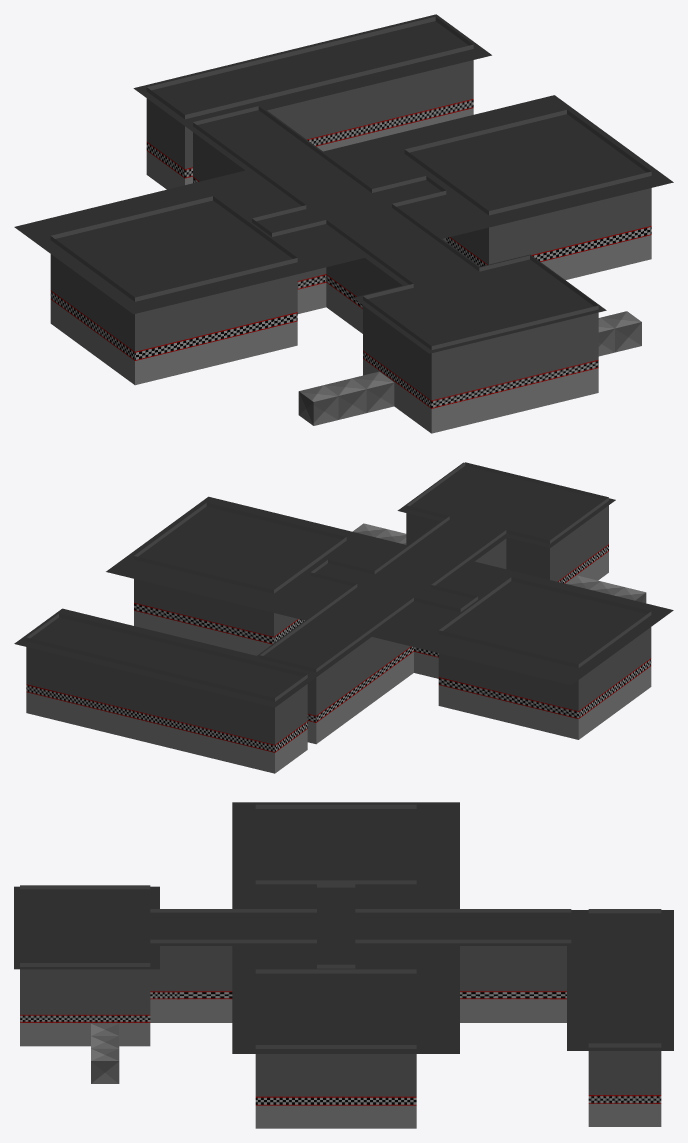
The model's file is building.glb.
3 views of the same model, one above another, from view 1: azimuth 30°, elevation 25°; view 2: azimuth 150°, elevation 25°; view 3: azimuth 270°, elevation 25° (orthographic). The views are drawn at different scales.
Parts seen in each view (by area): view 1: Ceiling, Object, Cube, Cube.002, Cube.001; view 2: Ceiling, Cube.002, Object, Cube, Cube.001; view 3: Ceiling, Object, Cube.001, Cube.002, Cube.
Part boxes in pixels (<box>): Ceiling: <box>14,14,673,353</box>; Object: <box>193,106,641,433</box>; Cube: <box>50,196,297,385</box>; Cube.002: <box>146,16,473,189</box>; Cube.001: <box>404,110,651,280</box>; Ceiling: <box>14,462,673,707</box>; Cube.002: <box>26,613,307,773</box>; Object: <box>259,462,646,744</box>; Cube: <box>438,577,651,739</box>; Cube.001: <box>134,502,346,655</box>; Ceiling: <box>14,802,673,1053</box>; Object: <box>20,883,571,1083</box>; Cube.001: <box>255,969,416,1128</box>; Cube.002: <box>588,909,661,1126</box>; Cube: <box>255,804,416,884</box>.
Bounding box in the file's own units: 25.88 × 4.02 × 28.7.
Materials: 4 (3 with a texture image).
